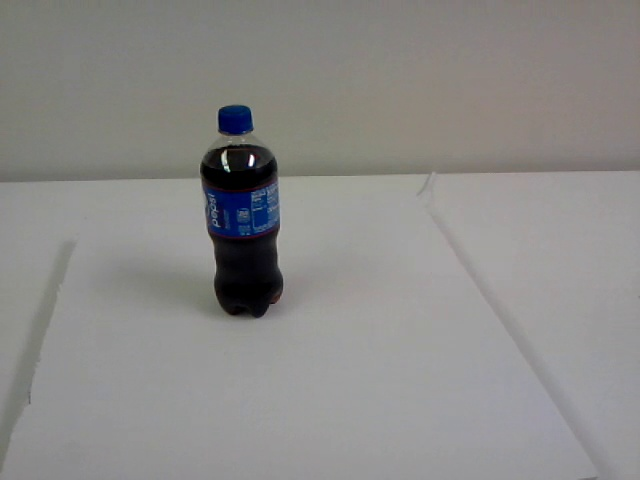botolplastik: (200, 106, 283, 317)
